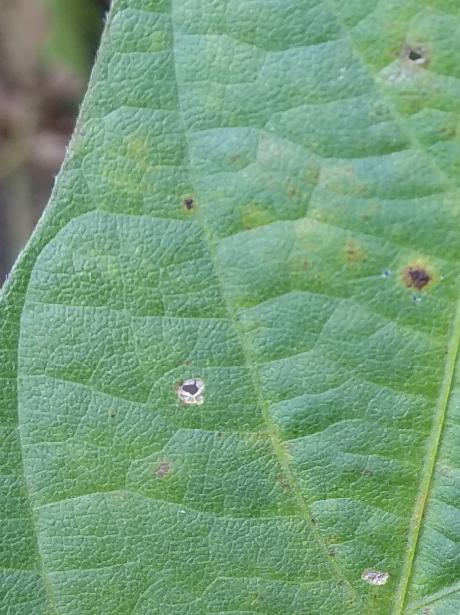doenca: (355, 31, 445, 107), (383, 240, 451, 315), (169, 356, 226, 412), (340, 543, 406, 591), (232, 202, 281, 248), (165, 177, 215, 217), (336, 224, 374, 274), (147, 452, 185, 489), (290, 249, 317, 276)
